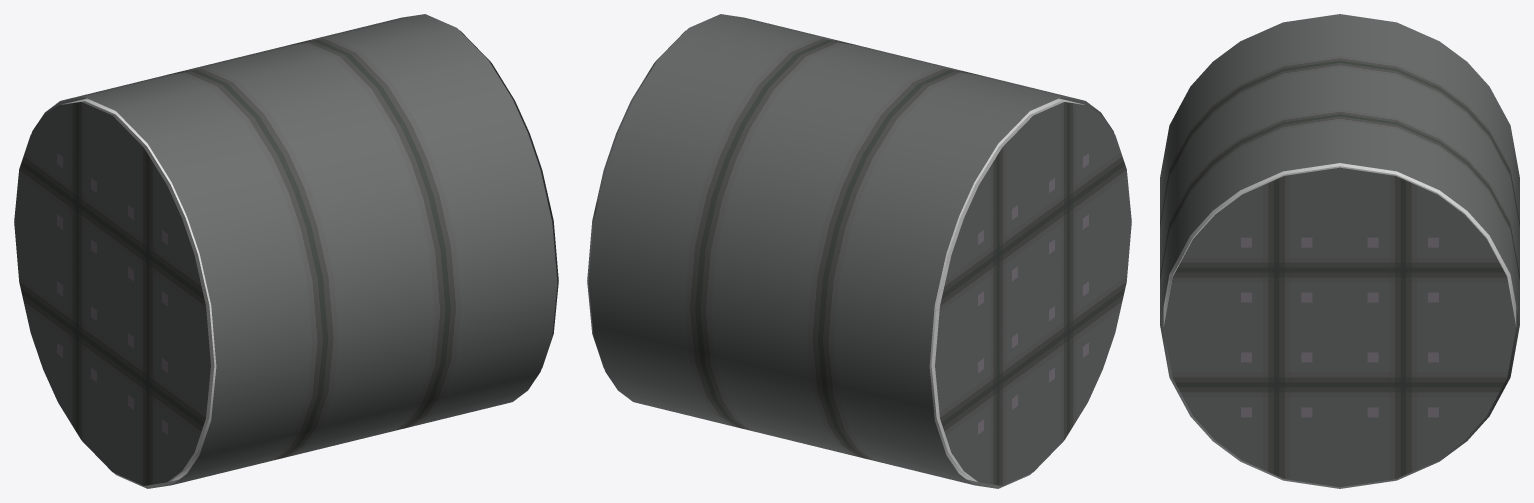
File: generator.obj
The picture shows the model from 3 angles, left to right: view 1: azimuth 30°, elevation 25°; view 2: azimuth 150°, elevation 25°; view 3: azimuth 270°, elevation 25°; orthographic projection. The views are drawn at different scales.
Parts seen in each view (by area): view 1: Generator7, Generator2, Generator4, Generator5, Generator1, Generator3; view 2: Generator6, Generator2, Generator4, Generator5, Generator1, Generator3; view 3: Generator3, Generator4, Generator6, Generator7, Generator1, Generator5.
Part boxes in pixels (left/top/right/bottom): Generator7: left=187, top=133, right=557, bottom=473; Generator2: left=14, top=102, right=210, bottom=485; Generator4: left=45, top=14, right=527, bottom=216; Generator5: left=114, top=390, right=527, bottom=488; Generator1: left=61, top=98, right=216, bottom=481; Generator3: left=460, top=30, right=558, bottom=367; Generator6: left=588, top=133, right=958, bottom=473; Generator2: left=935, top=102, right=1131, bottom=485; Generator4: left=618, top=14, right=1100, bottom=216; Generator5: left=618, top=390, right=1031, bottom=488; Generator1: left=929, top=98, right=1084, bottom=481; Generator3: left=587, top=30, right=685, bottom=367; Generator3: left=1163, top=167, right=1516, bottom=487; Generator4: left=1212, top=14, right=1467, bottom=210; Generator6: left=1467, top=62, right=1519, bottom=440; Generator7: left=1160, top=62, right=1212, bottom=440; Generator1: left=1163, top=163, right=1516, bottom=326; Generator5: left=1212, top=438, right=1467, bottom=488.
Bounding box in the file's own units: 2.04 × 2.04 × 2.04.
3 materials, 3 textured.
